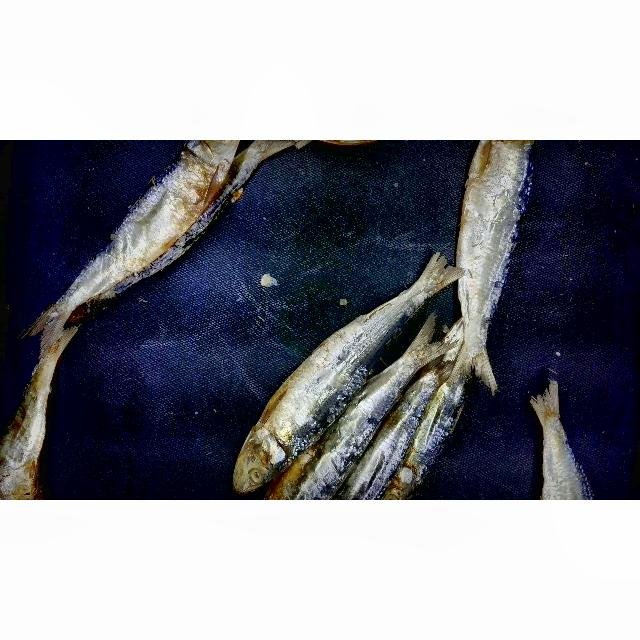Grade_B_Body: (74, 162, 234, 284)
Grade_B_Head: (221, 426, 291, 496)
